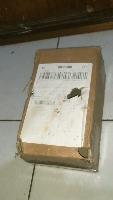damaged package: (75, 143, 95, 164), (16, 135, 24, 156)
undamaged: (13, 40, 106, 174)
